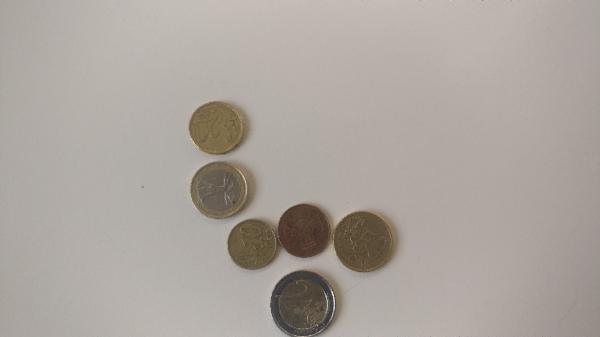Fifty Cent: (332, 209, 395, 273)
Five Cent: (276, 202, 329, 258)
One Euro: (188, 162, 252, 219)
Ten Cent: (223, 219, 283, 268)
Twenty Cent: (185, 102, 250, 155)
Two Euro: (270, 271, 339, 336)
